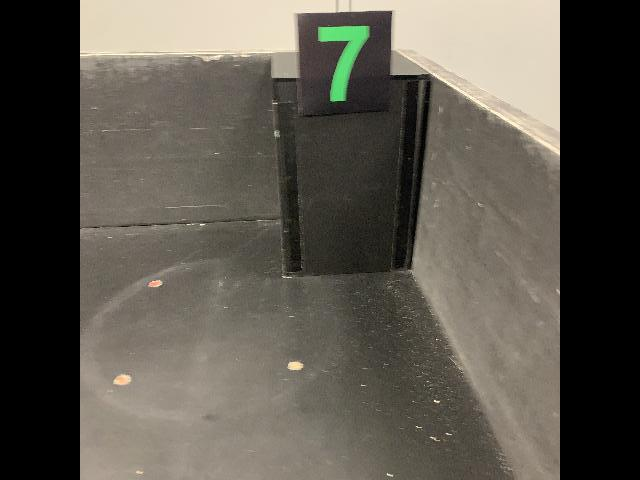seven: (293, 10, 394, 119)
